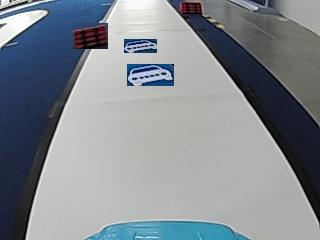bomb: (179, 1, 203, 13)
